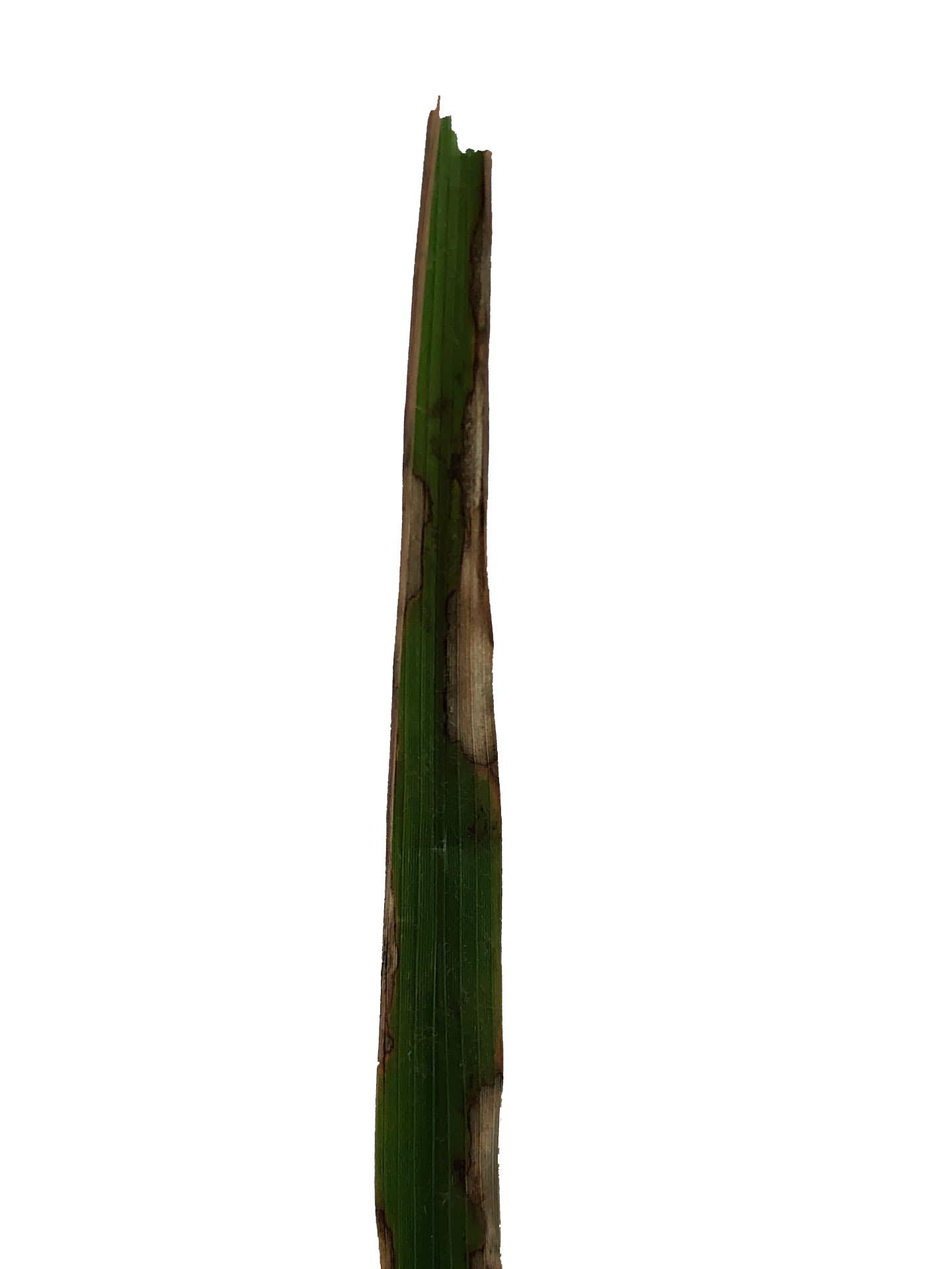Blight: (443, 373, 499, 833), (390, 420, 433, 618), (443, 1087, 502, 1200)
